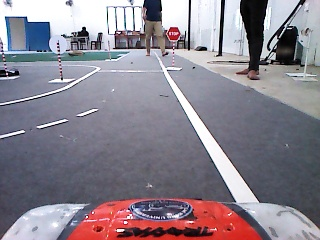stop: (165, 26, 183, 43)
